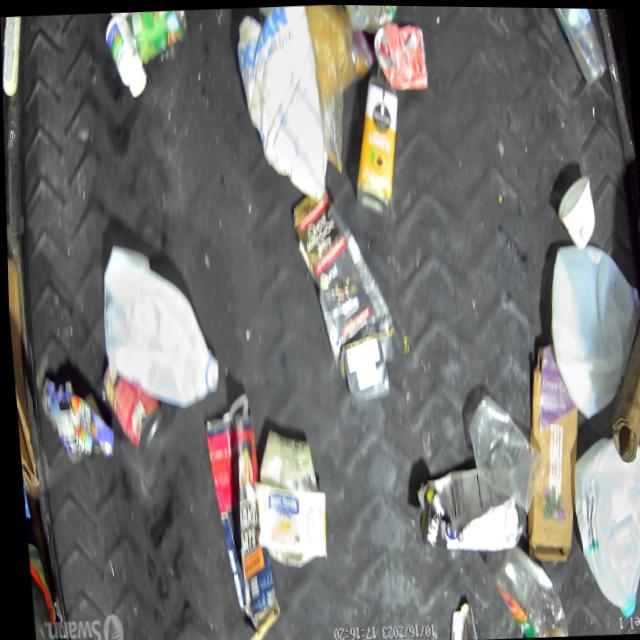can: (97, 357, 162, 453), (369, 21, 433, 95), (123, 8, 191, 63)
milk_jug: (94, 233, 219, 409), (231, 3, 331, 206), (541, 238, 640, 422), (567, 427, 640, 612)
plastic_bottle: (486, 544, 567, 639)
